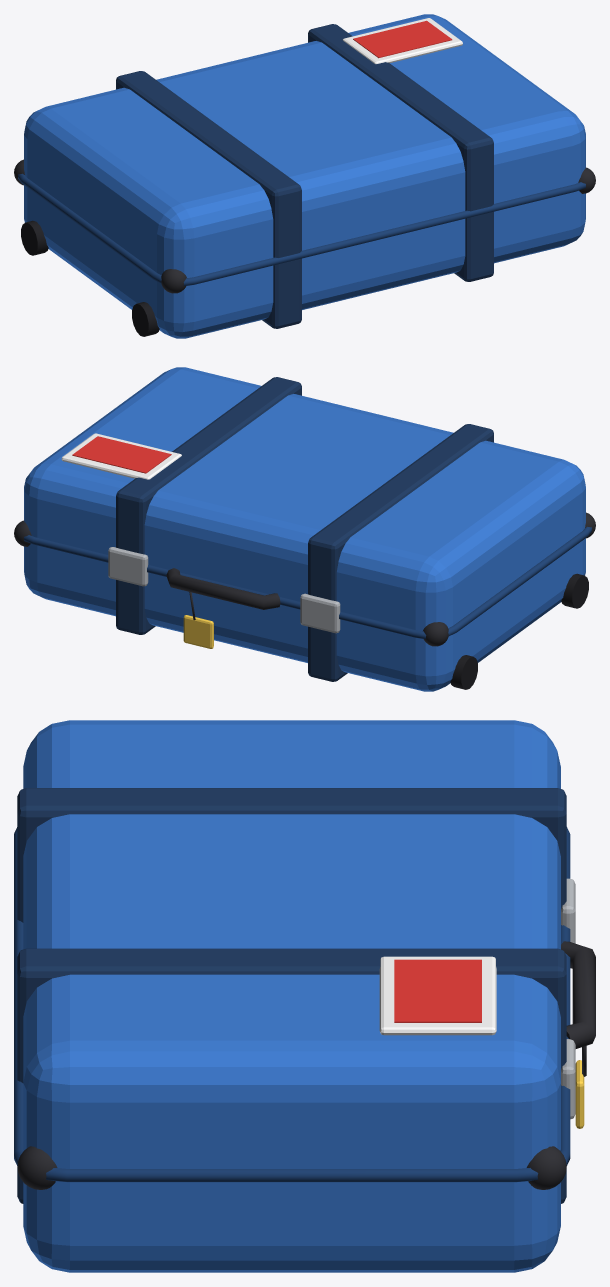
The model's file is suitcase_big.fbx.
3 views of the same model, one above another, from view 1: azimuth 30°, elevation 25°; view 2: azimuth 150°, elevation 25°; view 3: azimuth 270°, elevation 25° (orthographic). The views are drawn at different scales.
Parts seen in each view (by area): view 1: Big Suitcase; view 2: Big Suitcase; view 3: Big Suitcase.
Part boxes in pixels (box(x1,y1,x2,y2)): Big Suitcase: box(14, 14, 595, 338); Big Suitcase: box(14, 367, 595, 691); Big Suitcase: box(14, 720, 595, 1272).
Bounding box in the file's own units: 2.96 × 0.915 × 1.99.
